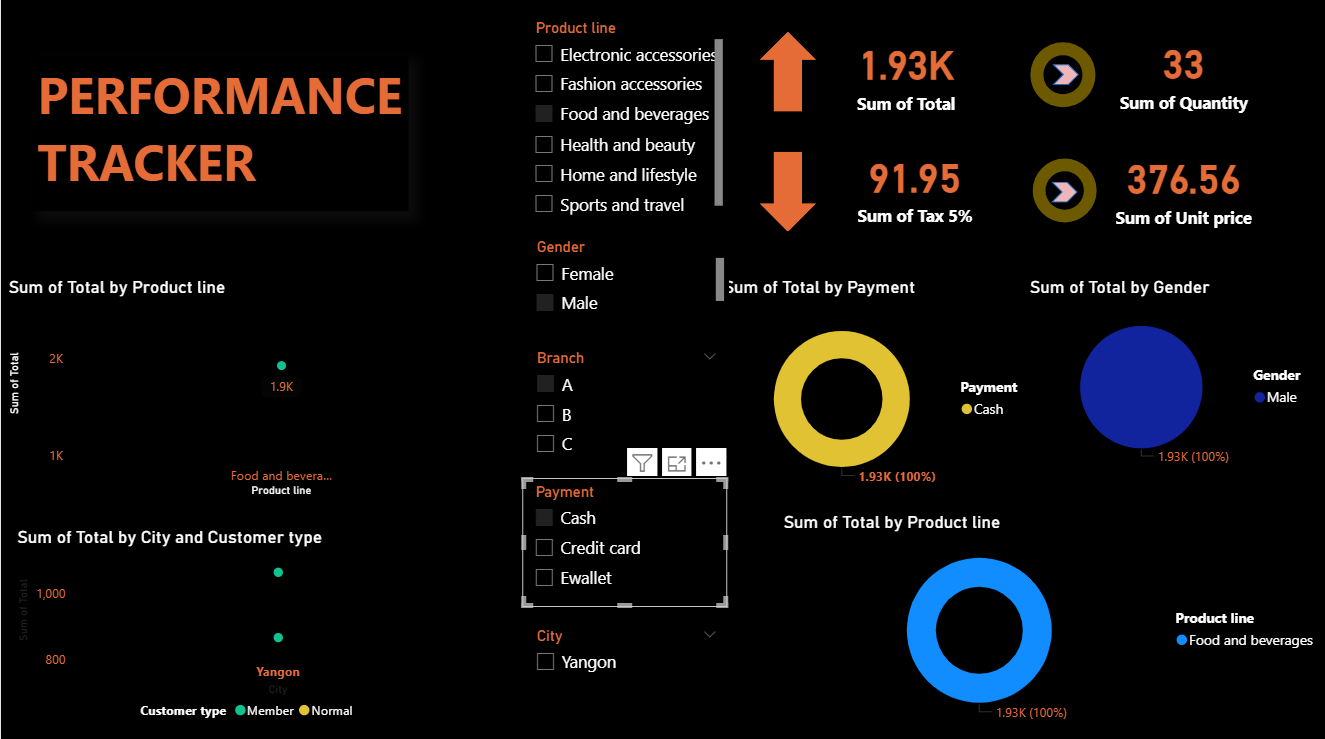

The page's visual inventory and layout, read from the dashboard file:
{"tool":"powerbi","page":{"name":"Page 1","canvas":[1280,720],"ordinal":0},"visuals":[{"type":"donutChart","fields":{"Category":["performance data.Payment"],"Y":["Sum(performance data.Total)"]},"box":[692.9,268.6,311.4,217.1],"z":0},{"type":"pieChart","fields":{"Category":["performance data.Gender"],"Y":["Sum(performance data.Total)"]},"box":[988.6,268.6,291.4,194.3],"z":1000},{"type":"donutChart","fields":{"Category":["performance data.Product line"],"Y":["Sum(performance data.Total)"]},"box":[750,495.7,530,210],"z":2000},{"type":"areaChart","fields":{"Category":["performance data.Product line"],"Y":["Sum(performance data.Total)"]},"box":[2.9,268.6,474.3,217.1],"z":3000},{"type":"areaChart","fields":{"Category":["performance data.City"],"Y":["Sum(performance data.Total)"],"Series":["performance data.Customer type"]},"box":[11.4,510,457.1,195.7],"z":4000},{"type":"card","fields":{"Values":["Sum(performance data.Tax 5%)"]},"box":[744.3,124.3,275.7,114.3],"z":5000},{"type":"card","fields":{"Values":["Sum(performance data.Total)"]},"box":[735.7,15.7,275.7,114.3],"z":6000},{"type":"card","fields":{"Values":["Sum(performance data.Unit price)"]},"box":[1004.3,125.7,275.7,114.3],"z":7000},{"type":"card","fields":{"Values":["Sum(performance data.Quantity)"]},"box":[1003.3,14.7,275.7,114.3],"z":8000},{"type":"shape","box":[732.9,32.9,54.3,77.1],"z":9000},{"type":"shape","box":[732.9,148.6,54.3,77.1],"z":10000},{"type":"donutChart","fields":{"Y":["Sum(performance data.Total)"],"Category":["performance data.Payment"]},"box":[982.9,111.4,87.1,150],"z":11000},{"type":"shape","box":[1012.9,177.1,25.7,20],"z":12000},{"type":"donutChart","fields":{"Y":["Sum(performance data.Total)"],"Category":["performance data.Payment"]},"box":[981.4,0,88.6,148.6],"z":13000},{"type":"textbox","box":[30,55.7,362.9,150],"z":14000},{"type":"slicer","fields":{"Values":["performance data.Product line"]},"box":[502.9,15.7,198.6,201.4],"z":15000},{"type":"shape","box":[1014.3,64.3,25.7,20],"z":16000},{"type":"slicer","fields":{"Values":["performance data.Gender"]},"box":[504.3,227.1,198.6,82.9],"z":16001},{"type":"slicer","fields":{"Values":["performance data.Branch"]},"box":[504.3,334.3,198.6,91.4],"z":16002},{"type":"slicer","fields":{"Values":["performance data.Payment"]},"box":[502.9,442.9,198.6,124.3],"z":16003},{"type":"slicer","fields":{"Values":["performance data.City"]},"box":[504.3,567.1,198.6,118.6],"z":16004}]}

Visuals, with their boxes in screenshot pixels (x1, y1, x2, y2), scaled from the page's 1280x720 canvas onto the 1325x739 screenshot:
donutChart - performance data.Payment x Sum(performance data.Total): bbox=(717, 276, 1040, 499)
pieChart - performance data.Gender x Sum(performance data.Total): bbox=(1023, 276, 1324, 475)
donutChart - performance data.Product line x Sum(performance data.Total): bbox=(776, 509, 1324, 724)
areaChart - performance data.Product line x Sum(performance data.Total): bbox=(3, 276, 494, 499)
areaChart - performance data.City x Sum(performance data.Total): bbox=(12, 523, 485, 724)
card - Sum(performance data.Tax 5%): bbox=(770, 128, 1056, 245)
card - Sum(performance data.Total): bbox=(762, 16, 1047, 133)
card - Sum(performance data.Unit price): bbox=(1040, 129, 1324, 246)
card - Sum(performance data.Quantity): bbox=(1039, 15, 1324, 132)
shape: bbox=(759, 34, 815, 113)
shape: bbox=(759, 153, 815, 232)
donutChart - Sum(performance data.Total) x performance data.Payment: bbox=(1017, 114, 1108, 268)
shape: bbox=(1049, 182, 1075, 202)
donutChart - Sum(performance data.Total) x performance data.Payment: bbox=(1016, 0, 1108, 153)
textbox: bbox=(31, 57, 407, 211)
slicer - performance data.Product line: bbox=(521, 16, 726, 223)
shape: bbox=(1050, 66, 1077, 87)
slicer - performance data.Gender: bbox=(522, 233, 728, 318)
slicer - performance data.Branch: bbox=(522, 343, 728, 437)
slicer - performance data.Payment: bbox=(521, 455, 726, 582)
slicer - performance data.City: bbox=(522, 582, 728, 704)
